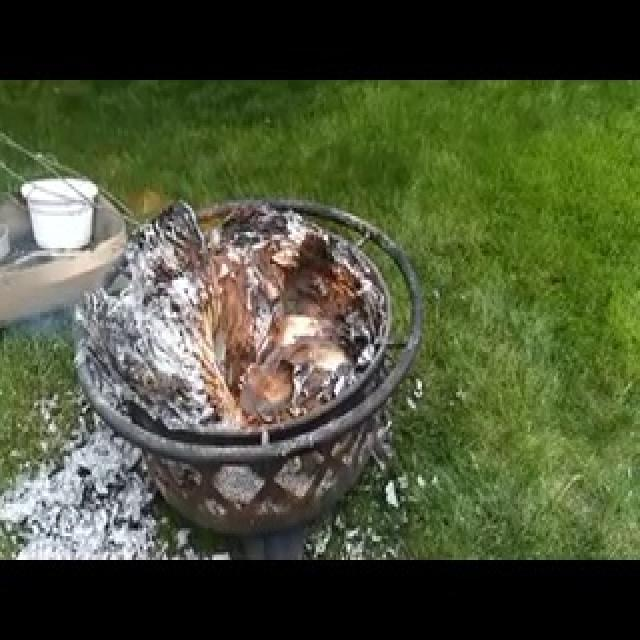Fire: (177, 294, 309, 446)
